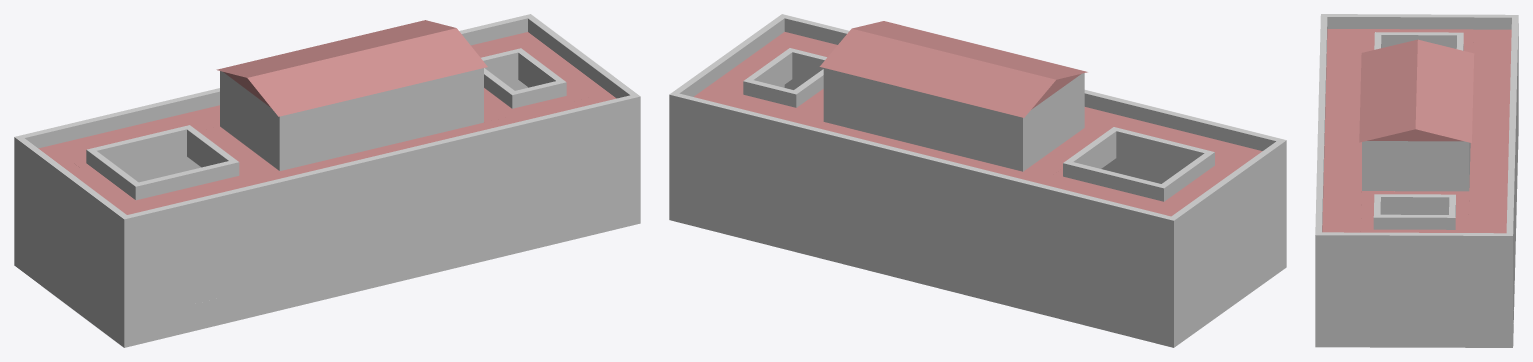
Rendered from LOD_Block_3_75.glb.
3 views of the same model, side by side, from view 1: azimuth 30°, elevation 25°; view 2: azimuth 150°, elevation 25°; view 3: azimuth 270°, elevation 25° (orthographic). The views are drawn at different scales.
Parts seen in each view (by area): view 1: mesh_CityEngineMaterial_1231; view 2: mesh_CityEngineMaterial_1231; view 3: mesh_CityEngineMaterial_1231.
Boxes of the visible parts, left/top/right/bottom form: mesh_CityEngineMaterial_1231: left=14, top=14, right=640, bottom=347; mesh_CityEngineMaterial_1231: left=669, top=14, right=1286, bottom=347; mesh_CityEngineMaterial_1231: left=1315, top=14, right=1518, bottom=347.
Size of the model in its own units: 39.64 by 13.7 by 15.35.
